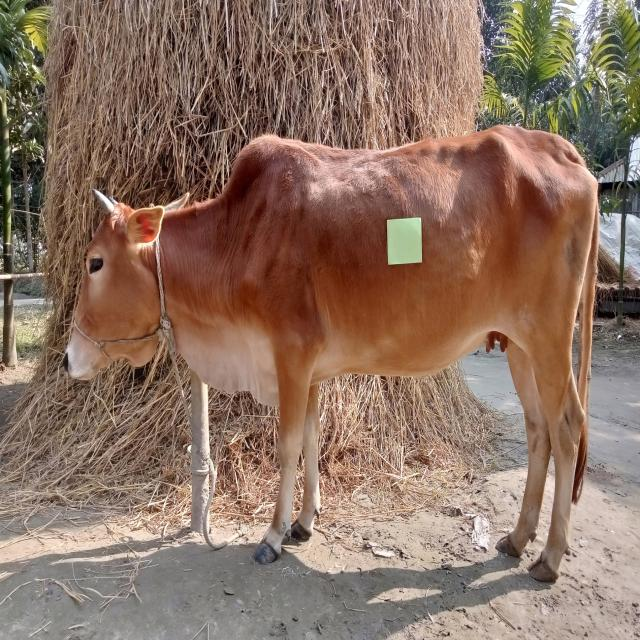badan_sapi: (261, 143, 574, 380)
sapi: (55, 124, 606, 590)
